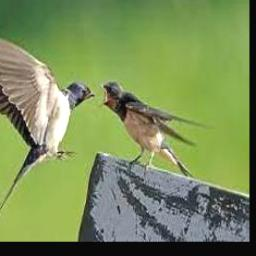Swallow: (0, 34, 95, 228), (99, 81, 210, 177)
